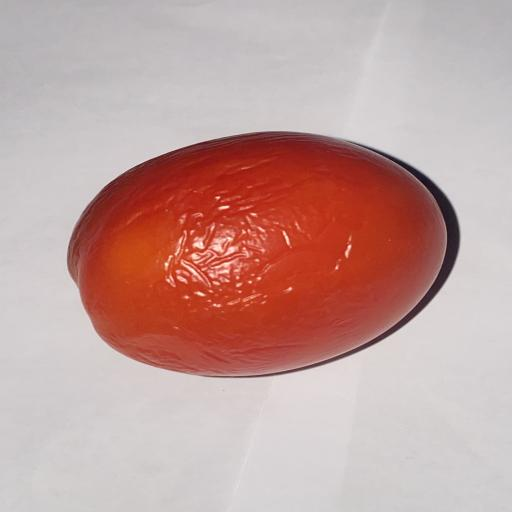spoiled: (68, 132, 446, 376)
